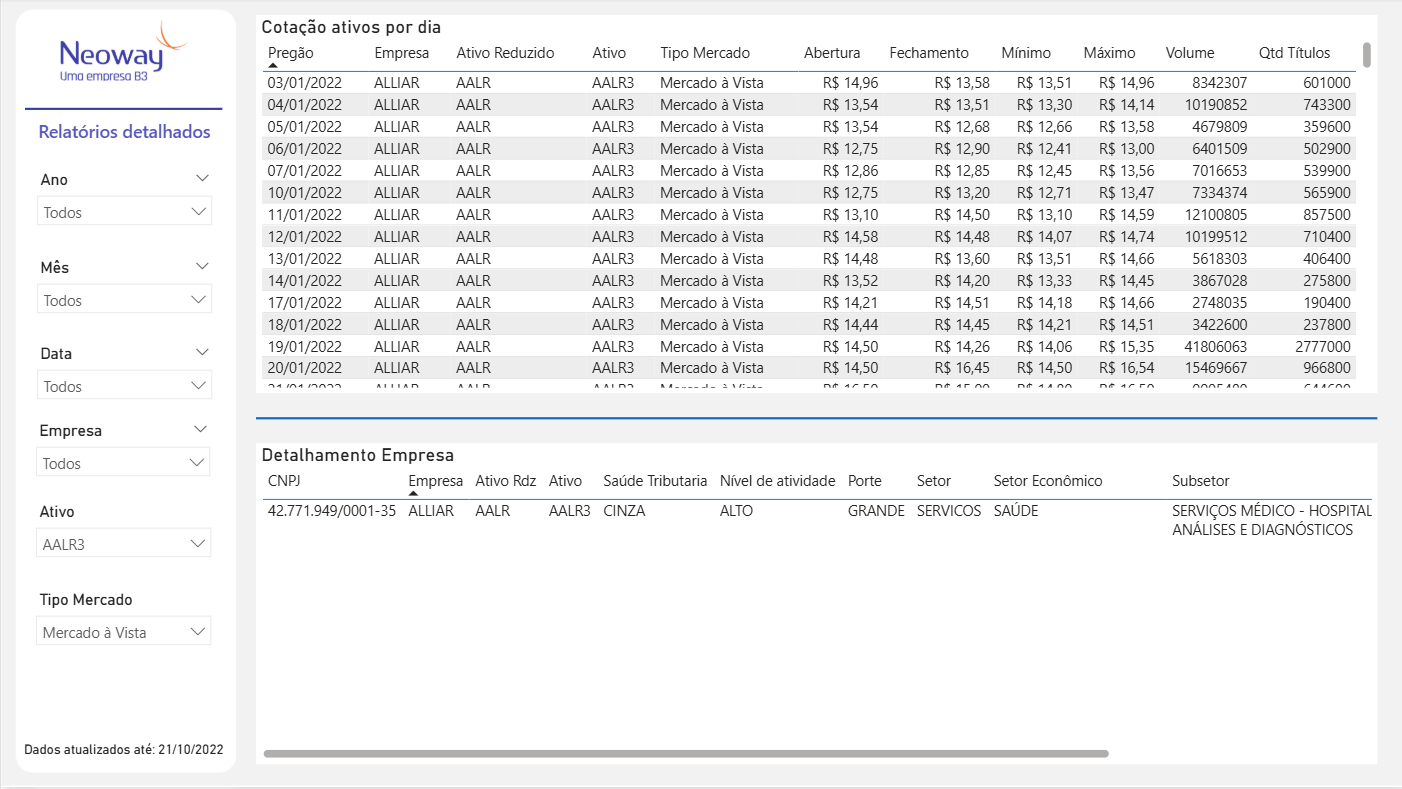

The page's visual inventory and layout, read from the dashboard file:
{"tool":"powerbi","page":{"name":"Relatório","canvas":[1280,720],"ordinal":2},"visuals":[{"type":"tableEx","title":"Cotação ativos por dia","fields":{"Values":["fCotacoes.dt_pregao","dEmpresas.nm_empresa","fCotacoes.cd_acao_rdz","fCotacoes.cd_acao","fCotacoes.tipo_mercado_desc","Sum(fCotacoes.vl_abertura)","Sum(fCotacoes.vl_fechamento)","Sum(fCotacoes.vl_minimo)","Sum(fCotacoes.vl_maximo)","fCotacoes.vl_volume","fCotacoes.qt_tit_neg"]},"box":[232.3,15.1,1023.3,344.9],"z":0},{"type":"slicer","title":"Ano","fields":{"Values":["dCalendario.Ano"]},"box":[22.4,152.8,180,70],"z":1000},{"type":"slicer","title":"Mês","fields":{"Values":["dCalendario.MesNome"]},"box":[22.4,232.2,179.9,70],"z":2000},{"type":"slicer","fields":{"Values":["dCalendario.Date"]},"box":[22.4,311.4,179.9,70],"z":3000},{"type":"slicer","fields":{"Values":["dEmpresas.cd_acao"]},"box":[22.2,454.9,180,70],"z":4000},{"type":"image","box":[52.4,14.7,119.1,66.3],"z":5000},{"type":"shape","box":[22,95.2,180,12.5],"z":6000},{"type":"textbox","box":[16.8,105.6,192,46.6],"z":7000},{"type":"card","fields":{"Values":["_Dimensoes.Ultima_Atualizacao"]},"box":[15.9,673.3,193,26.1],"z":8000},{"type":"slicer","fields":{"Values":["fCotacoes.tipo_mercado_desc"]},"box":[22.2,535.6,180,70],"z":9000},{"type":"slicer","fields":{"Values":["dEmpresas.nm_empresa"]},"box":[22.2,381.3,179.1,69.2],"z":10000},{"type":"tableEx","title":"Detalhamento Empresa","fields":{"Values":["_Dimensoes.CNPJ Formatado","dEmpresas.nm_empresa","dEmpresas.cd_acao_rdz","dEmpresas.cd_acao","dEmpresas.saude_tributaria","dEmpresas.nivel_atividade","dEmpresas.empresa_porte","dEmpresas.de_setor","dEmpresas.setor_economico","dEmpresas.subsetor","dEmpresas.segmento"]},"box":[232.3,406.1,1023.3,292.6],"z":11000},{"type":"shape","box":[232.3,360,1023.3,46.1],"z":12000},{"type":"actionButton","box":[30.8,614.1,43.5,39.9],"z":12001},{"type":"actionButton","box":[149.5,614.1,40.8,39.9],"z":12002}]}

Visuals, with their boxes in screenshot pixels (x1, y1, x2, y2), scaled from the page's 1280x720 canvas onto the 1402x789 screenshot:
"Cotação ativos por dia" tableEx: left=254, top=17, right=1375, bottom=395
"Ano" slicer: left=25, top=167, right=222, bottom=244
"Mês" slicer: left=25, top=254, right=222, bottom=331
slicer - dCalendario.Date: left=25, top=341, right=222, bottom=418
slicer - dEmpresas.cd_acao: left=24, top=498, right=221, bottom=575
image: left=57, top=16, right=188, bottom=89
shape: left=24, top=104, right=221, bottom=118
textbox: left=18, top=116, right=229, bottom=167
card - _Dimensoes.Ultima_Atualizacao: left=17, top=738, right=229, bottom=766
slicer - fCotacoes.tipo_mercado_desc: left=24, top=587, right=221, bottom=664
slicer - dEmpresas.nm_empresa: left=24, top=418, right=220, bottom=494
"Detalhamento Empresa" tableEx: left=254, top=445, right=1375, bottom=766
shape: left=254, top=395, right=1375, bottom=445
actionButton: left=34, top=673, right=81, bottom=717
actionButton: left=164, top=673, right=208, bottom=717
